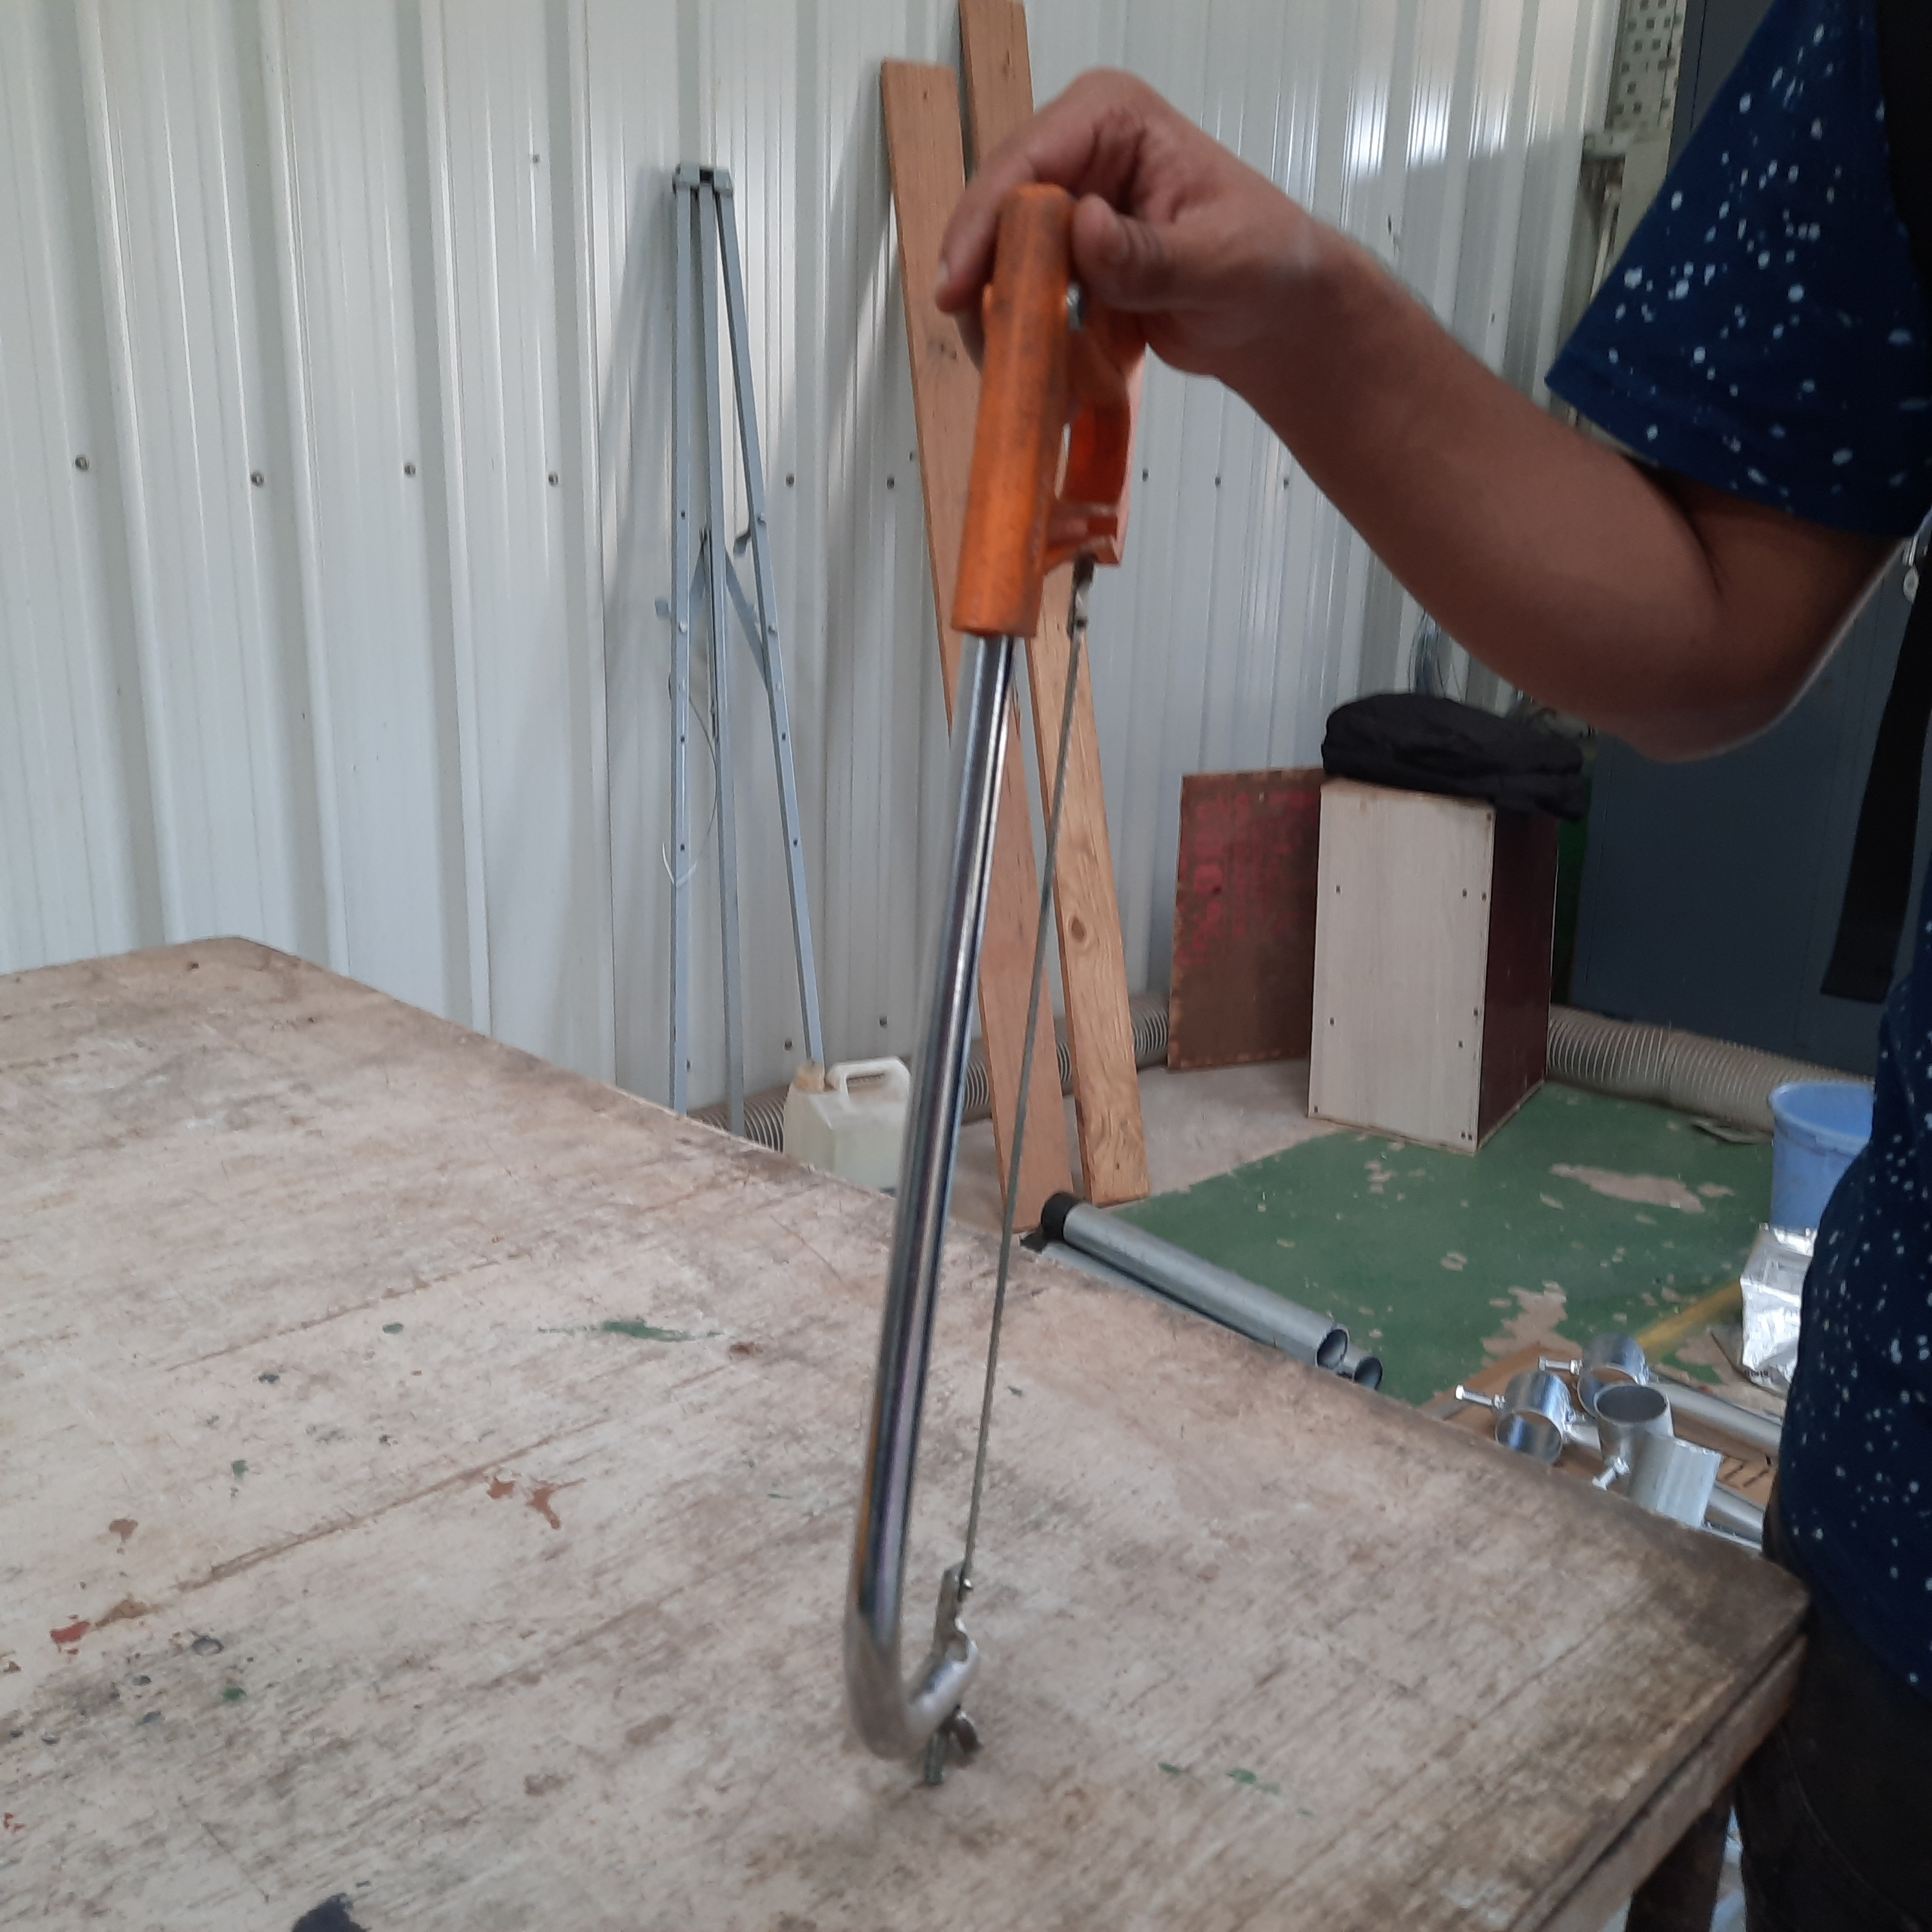Hexaframe: (798, 165, 1185, 1831)
